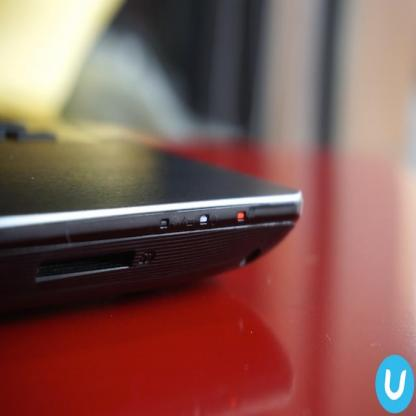board: (0, 140, 302, 314)
